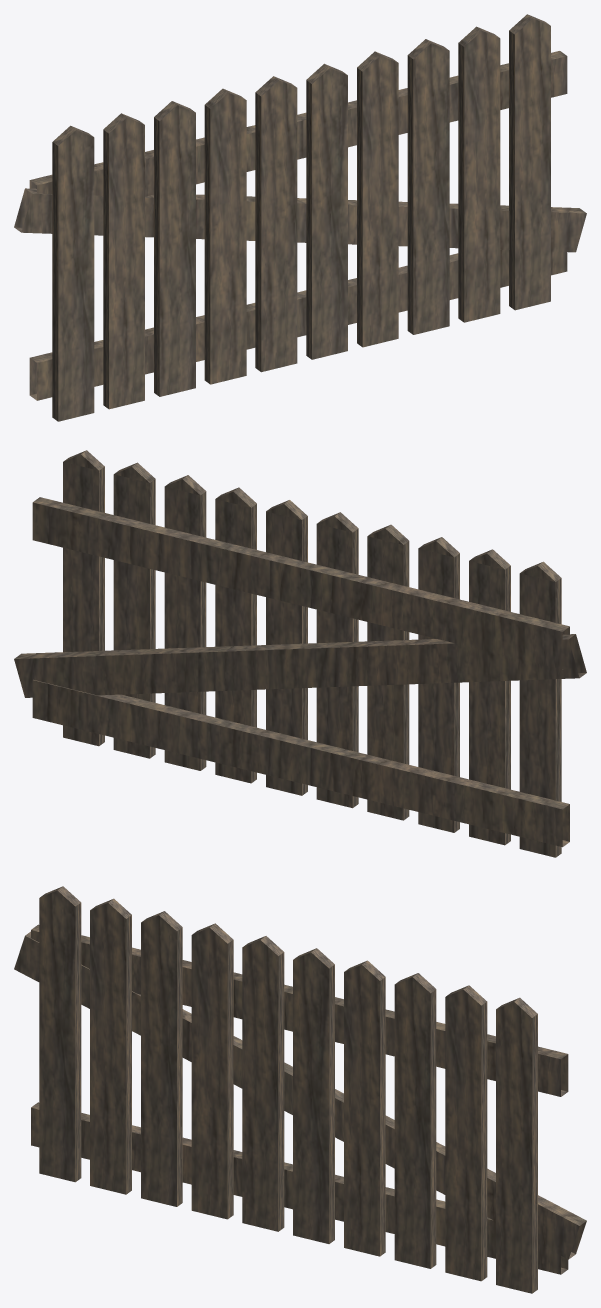
The model's file is barriere_bois2.obj.
3 renders of one model, top to bottom at view 1: azimuth 30°, elevation 25°; view 2: azimuth 150°, elevation 25°; view 3: azimuth 330°, elevation 25°, orthographic.
Parts seen in each view (by area): view 1: barriere_bois2_Cube.003; view 2: barriere_bois2_Cube.003; view 3: barriere_bois2_Cube.003.
Part boxes in pixels (x1,y1,x2,y2): barriere_bois2_Cube.003: (14, 14, 586, 421); barriere_bois2_Cube.003: (14, 450, 586, 857); barriere_bois2_Cube.003: (14, 886, 586, 1293).
Size of the model in its own units: 1.94 by 0.9441 by 0.0812.
